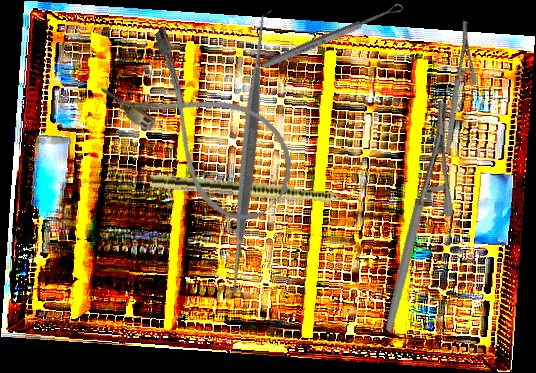Cannula: (96, 21, 313, 237)
Handpiece: (149, 173, 373, 210)
Needle Holder: (317, 98, 513, 334), (405, 18, 507, 154)
Spatula Surgical: (104, 9, 392, 301)
Surgical Spoon: (259, 2, 405, 71)
